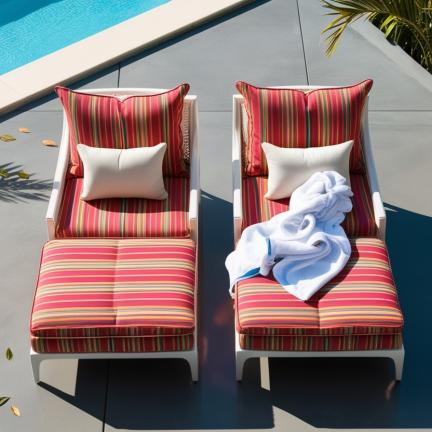empty chair: (30, 84, 200, 382)
occupied chair: (225, 79, 404, 381)
